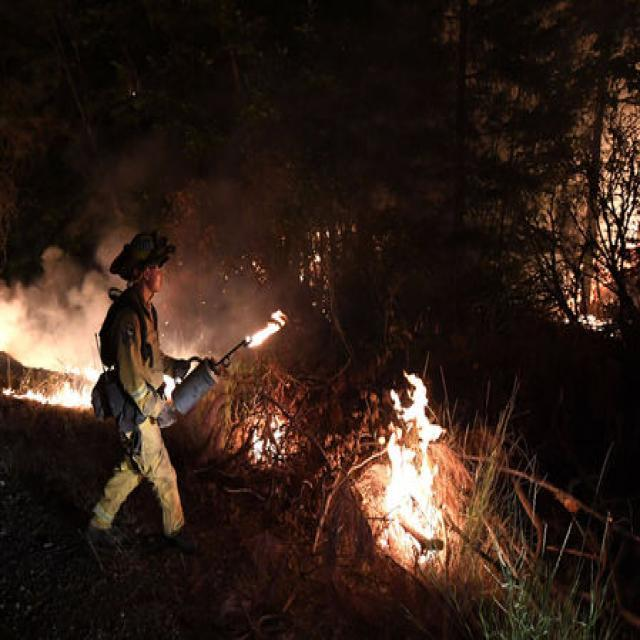Smoke: (0, 214, 136, 374)
